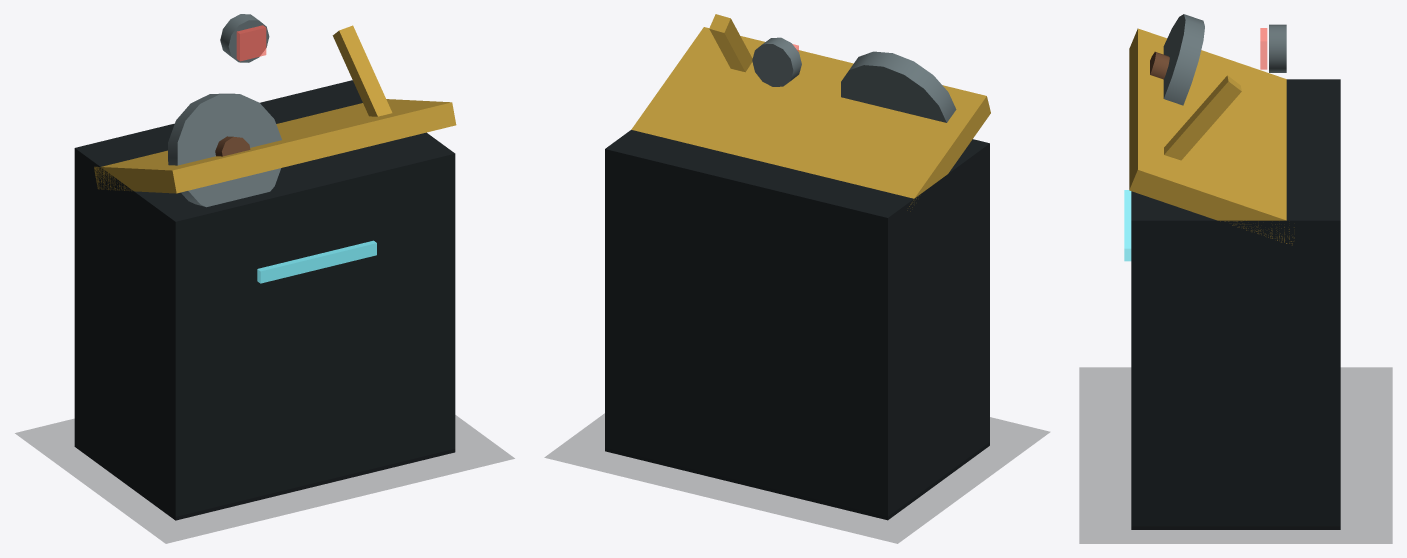
Rendered from hp_room_rm_maint_door_console.glb.
3 views of the same model, side by side, from view 1: azimuth 30°, elevation 25°; view 2: azimuth 150°, elevation 25°; view 3: azimuth 270°, elevation 25° (orthographic). The views are drawn at different scales.
Visible parts, largest first — view 1: console_body, contact_shadow, console_slope, bolt_wheel, lever_arm, load_meter, state_lamp, state_lamp_red; view 2: console_body, console_slope, contact_shadow, bolt_wheel, state_lamp, lever_arm; view 3: console_body, contact_shadow, console_slope, bolt_wheel, lever_arm, state_lamp, load_meter, wheel_hub.
Part boxes in pixels (x1,y1,x2,y2): console_body: [74, 80, 455, 520]; contact_shadow: [15, 415, 514, 543]; console_slope: [94, 99, 456, 193]; bolt_wheel: [168, 93, 281, 207]; lever_arm: [332, 25, 392, 116]; load_meter: [257, 240, 376, 283]; state_lamp: [220, 14, 269, 62]; state_lamp_red: [236, 25, 266, 61]; console_body: [605, 130, 989, 520]; console_slope: [631, 27, 990, 211]; contact_shadow: [545, 413, 1049, 543]; bolt_wheel: [841, 51, 956, 122]; state_lamp: [752, 37, 801, 86]; lever_arm: [709, 14, 752, 72]; console_body: [1131, 79, 1340, 529]; contact_shadow: [1079, 367, 1392, 543]; console_slope: [1129, 28, 1294, 245]; bolt_wheel: [1163, 14, 1204, 105]; lever_arm: [1164, 75, 1241, 160]; state_lamp: [1269, 24, 1286, 72]; load_meter: [1124, 190, 1131, 261]; wheel_hub: [1150, 51, 1169, 79].
Size of the model in its own units: 1.2 by 1.37 by 0.9.
